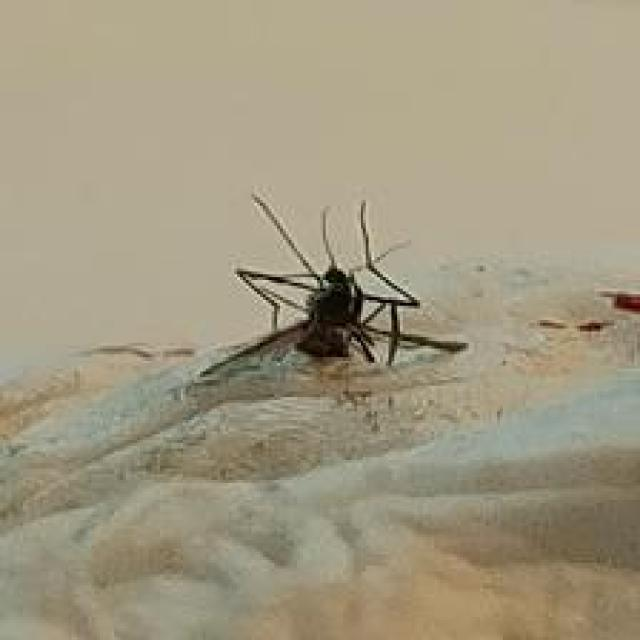Aedes albopictus: (196, 189, 467, 394)
